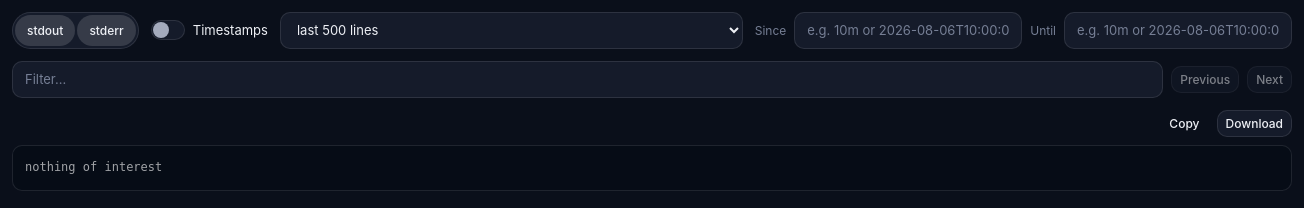
Test: ContainerLogsView (REQ-30, REQ-31) › reports that nothing matches when the search finds no line
This screenshot has width=1304, height=208.
Check: the text "nothing of interest" is shown, box [25, 160, 162, 174]
Type "zzz" into the field named "Search the stream" at (588, 79), box [12, 61, 1163, 98]
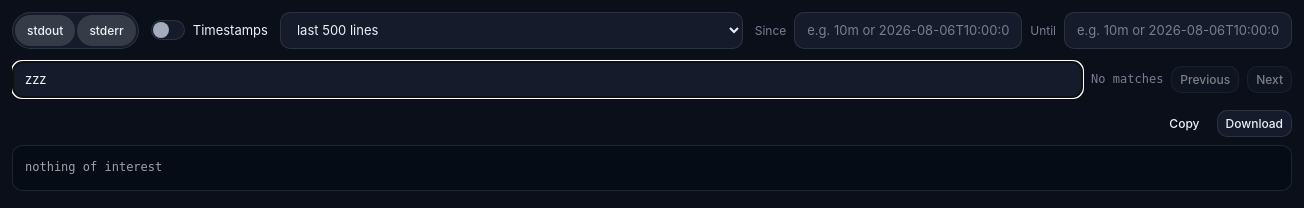
Check: the text "No matches" is shown, box [1091, 71, 1163, 88]
